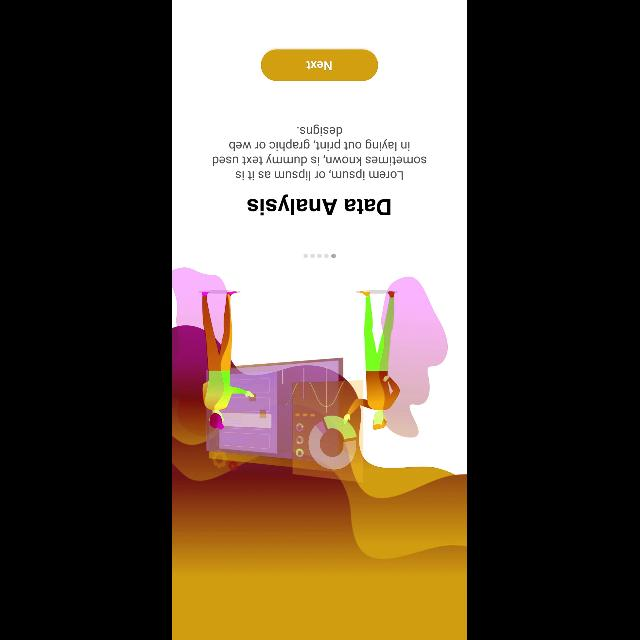image: (172, 267, 468, 639)
pageindicator: (304, 250, 340, 262)
text: (213, 124, 427, 180), (248, 194, 390, 216)
textbutton: (262, 50, 378, 80)
